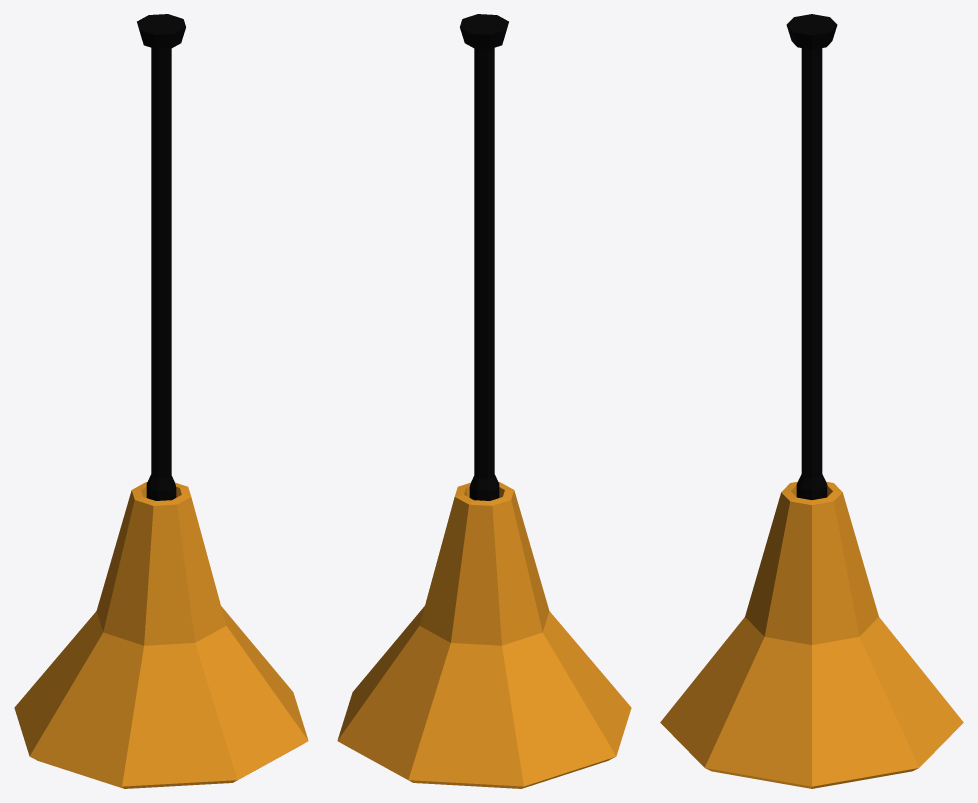
Rendered from lamp.fbx.
3 renders of one model, left to right at view 1: azimuth 30°, elevation 25°; view 2: azimuth 150°, elevation 25°; view 3: azimuth 270°, elevation 25°, orthographic.
Visible parts, largest first — view 1: lamp; view 2: lamp; view 3: lamp.
Boxes of the visible parts, left/top/right/bottom form: lamp: left=14, top=14, right=308, bottom=788; lamp: left=337, top=14, right=631, bottom=788; lamp: left=660, top=14, right=963, bottom=788.
Size of the model in its own units: 136 by 349 by 136.
